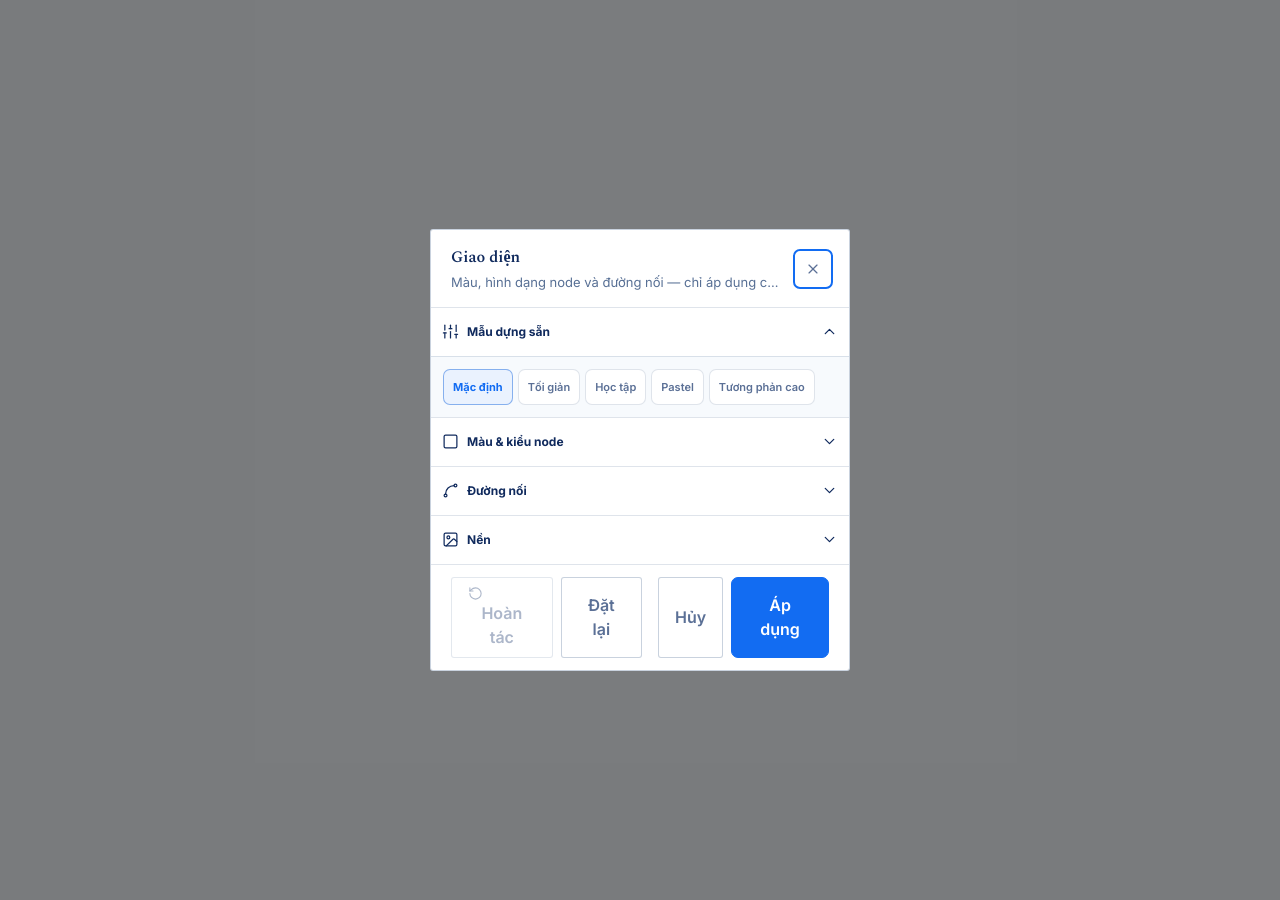
Test: AppearanceEditorDrawer — Apply persists and keeps the preview › on PATCH failure, rolls back to the saved appearance and shows an error without closing
Click the button "Học tập".
click(616, 387)  # box top-left (585, 369), bottom-right (646, 405)
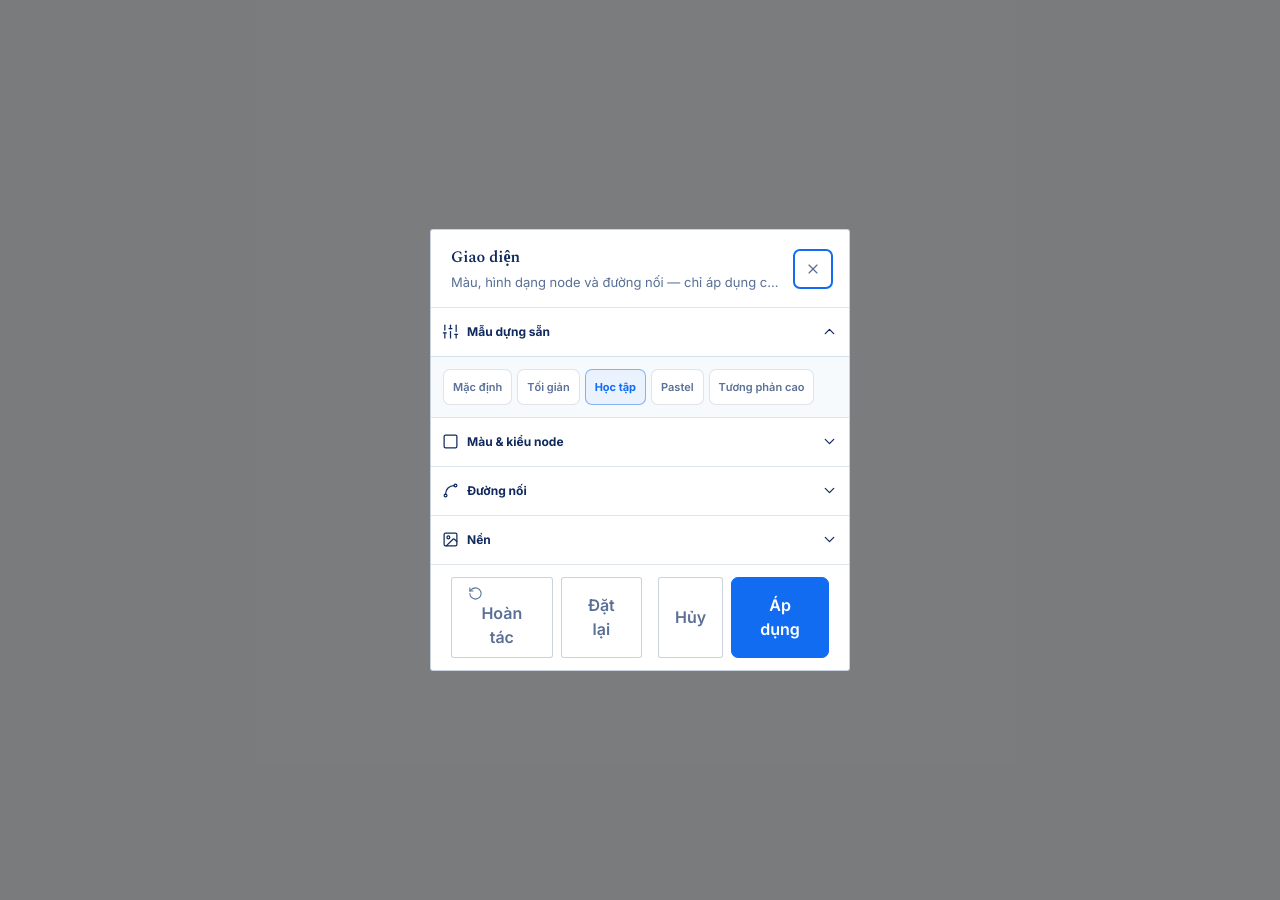
Click the button "Áp dụng".
click(780, 617)  # box top-left (731, 577), bottom-right (829, 658)
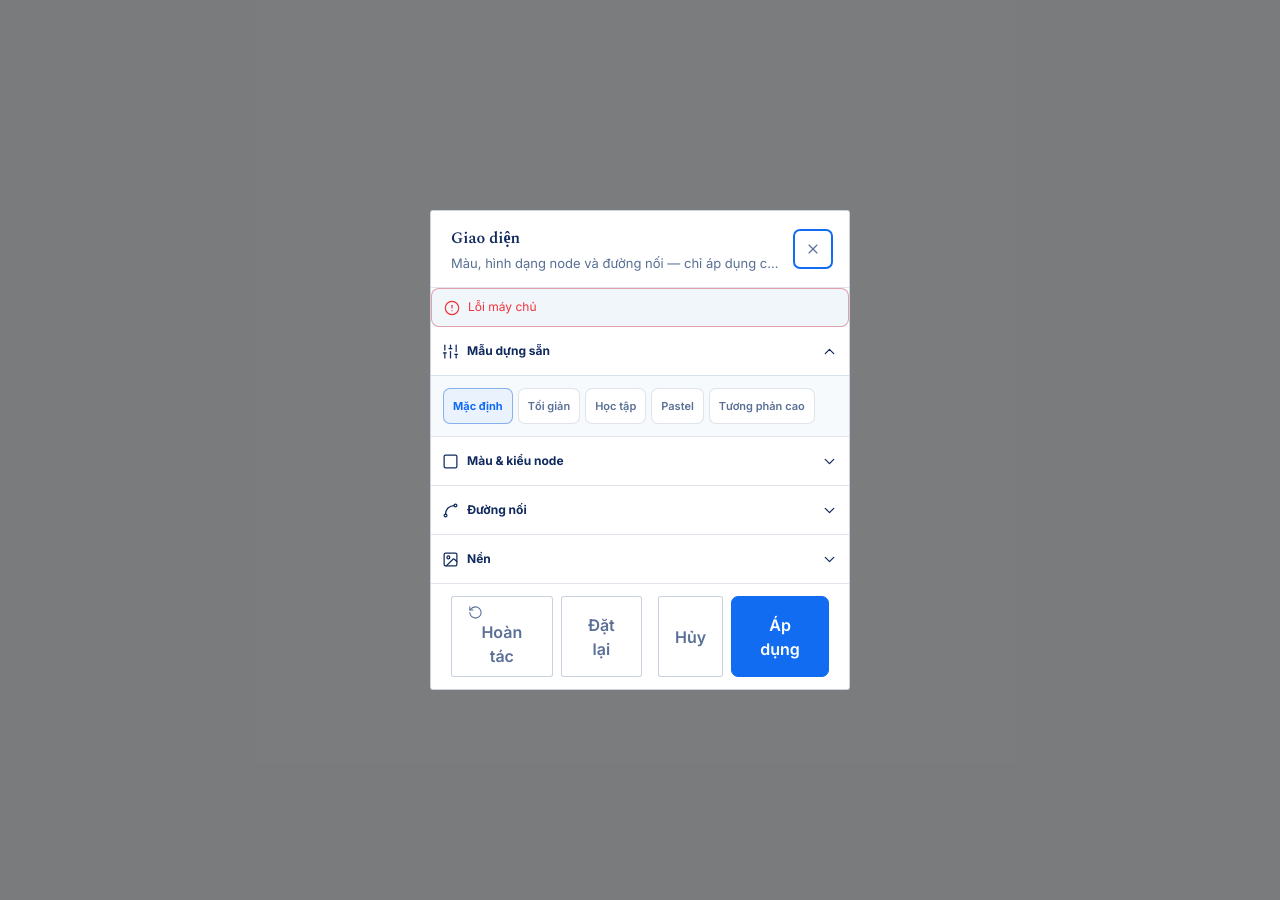
Expected: the dialog shows "Lỗi máy chủ", top-left (468, 299), bottom-right (536, 314)
